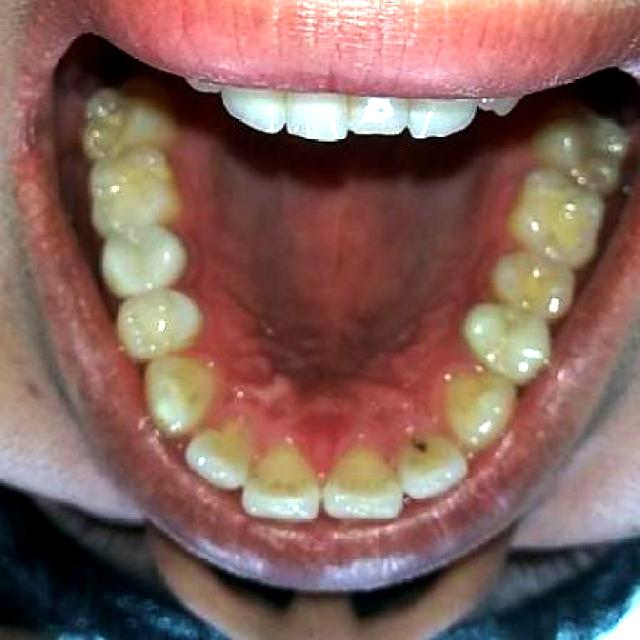Plaque: (403, 432, 437, 460)
